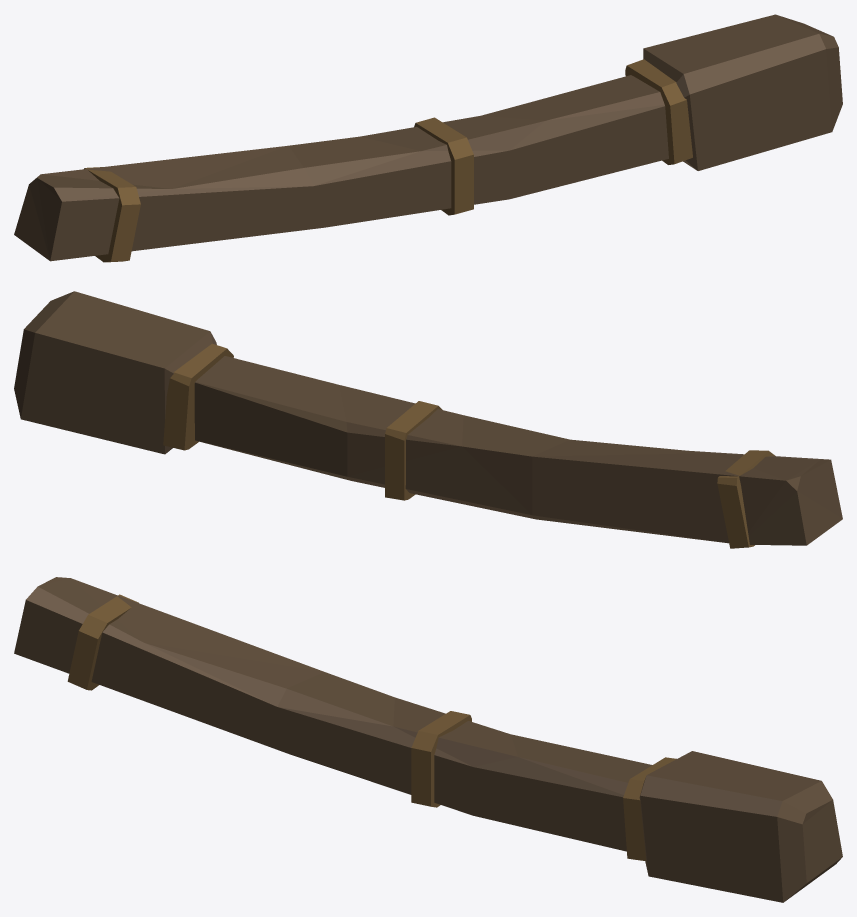
3 views of the same model, one above another, from view 1: azimuth 30°, elevation 25°; view 2: azimuth 150°, elevation 25°; view 3: azimuth 330°, elevation 25° (orthographic).
Visible parts, largest first — view 1: Cube.002; view 2: Cube.002; view 3: Cube.002.
Boxes of the visible parts, box(x1,y1,x2,y2) form: Cube.002: box(14, 14, 842, 262); Cube.002: box(14, 291, 842, 548); Cube.002: box(14, 577, 842, 902).
Size of the model in its own units: 9.38 by 1.46 by 1.09.
Materials: 1 (1 with a texture image).
